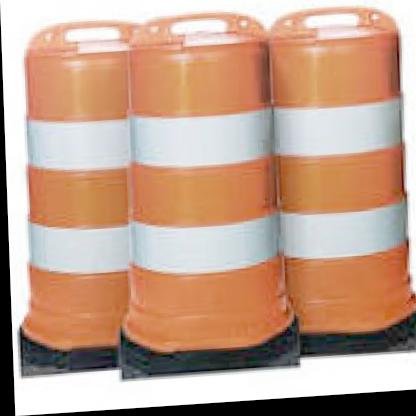obstacle: (123, 6, 309, 361)
